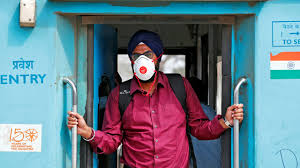mask: (129, 39, 159, 81)
